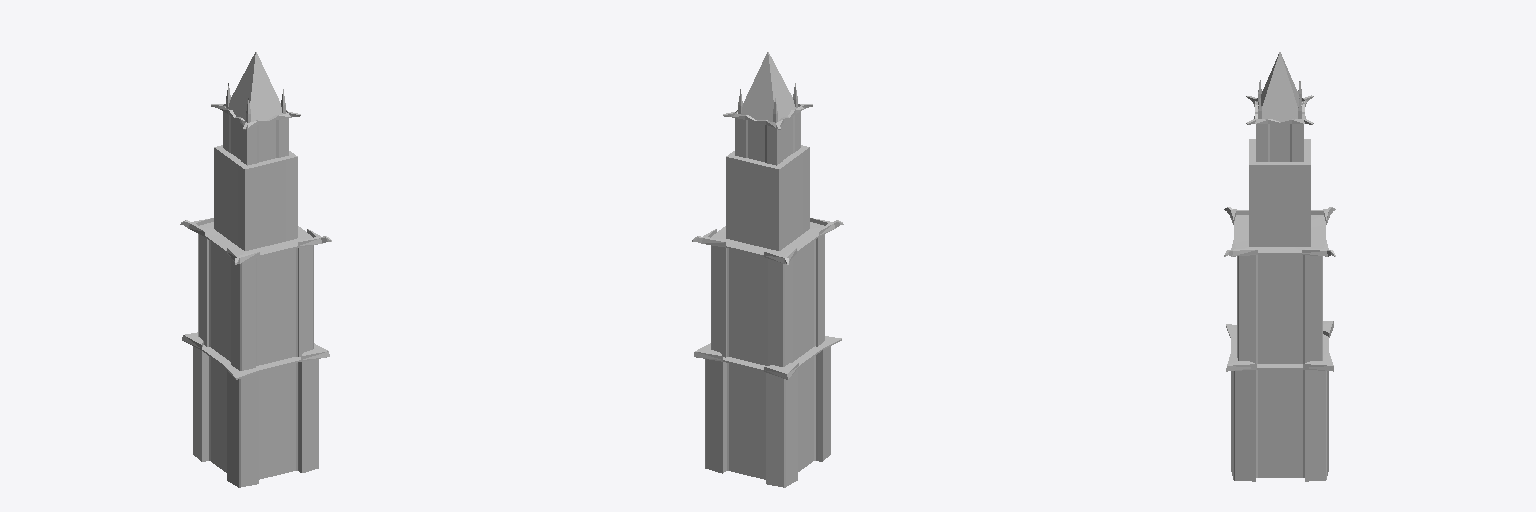
Rendered from Gotham_Skyline_BuildingBlock04.obj.
The picture shows the model from 3 angles: view 1: azimuth 30°, elevation 25°; view 2: azimuth 150°, elevation 25°; view 3: azimuth 270°, elevation 25°; orthographic projection.
Visible parts, largest first — view 1: 7_Gotham-Skyline-BuildingBlock04; view 2: 7_Gotham-Skyline-BuildingBlock04; view 3: 7_Gotham-Skyline-BuildingBlock04.
Part boxes in pixels (bbox=[...]): 7_Gotham-Skyline-BuildingBlock04: bbox=[180, 52, 331, 487]; 7_Gotham-Skyline-BuildingBlock04: bbox=[692, 52, 843, 487]; 7_Gotham-Skyline-BuildingBlock04: bbox=[1224, 52, 1335, 481].
Bounding box in the file's own units: 13027 × 52549 × 13027.